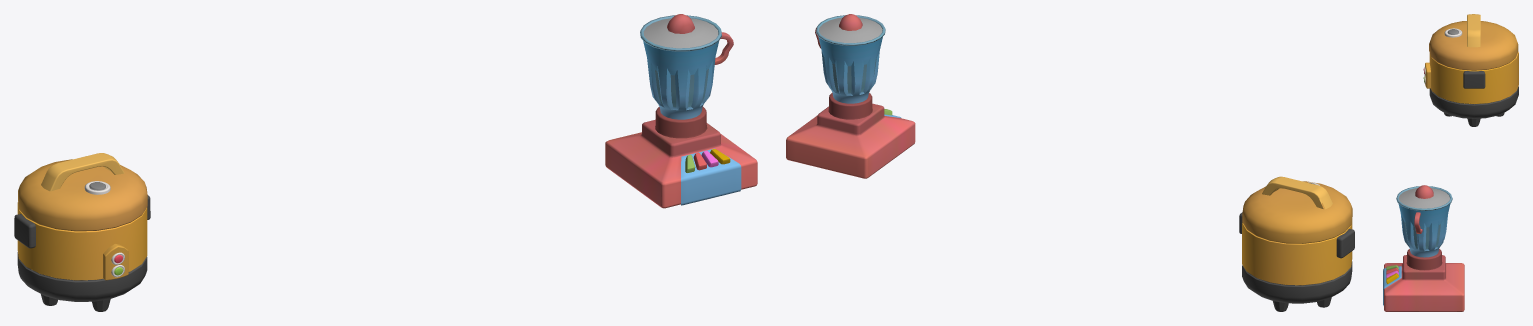
File: cooker&grinder.fbx
3 renders of one model, left to right at view 1: azimuth 30°, elevation 25°; view 2: azimuth 150°, elevation 25°; view 3: azimuth 270°, elevation 25°, orthographic. The views are drawn at different scales.
Parts seen in each view (by area): view 1: Grinder, polySurface343, polySurface340, Cap; view 2: Grinder, polySurface343, polySurface340, Cap; view 3: Grinder, polySurface343, polySurface340, Cap.
Boxes of the visible parts, x1,y1,x2,y2 form: Grinder: (605,32,757,208); polySurface343: (14,195,150,311); polySurface340: (18,153,147,231); Cap: (640,14,721,51); Grinder: (786,28,915,178); polySurface343: (1239,212,1354,311); polySurface340: (1242,176,1352,243); Cap: (816,14,885,45); Grinder: (1383,204,1464,311); polySurface343: (1423,51,1518,126); polySurface340: (1429,14,1518,70); Cap: (1396,185,1452,210).
Size of the model in its own units: 228 by 55.59 by 58.42.
2 materials, 1 textured.
